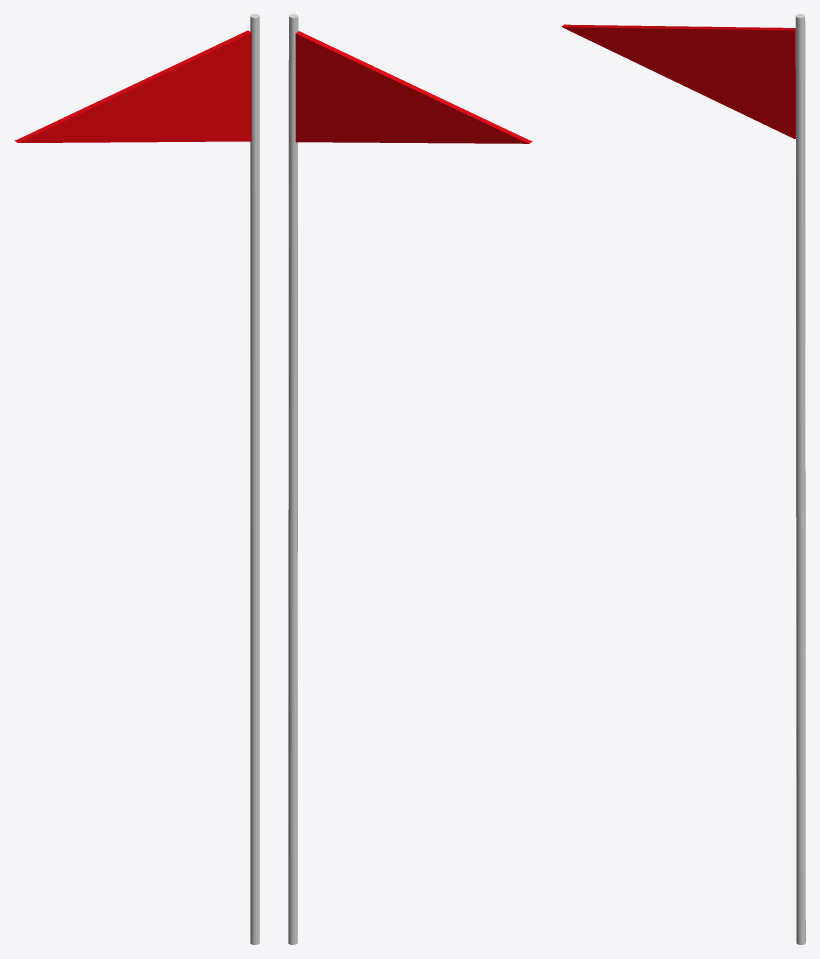
File: golf_flag.fbx
3 views of the same model, side by side, from view 1: azimuth 30°, elevation 25°; view 2: azimuth 150°, elevation 25°; view 3: azimuth 330°, elevation 25° (orthographic).
Visible parts, largest first — view 1: Flag, Pole; view 2: Flag, Pole; view 3: Flag, Pole.
Part boxes in pixels (x1=…): Flag: x1=14, y1=30, x2=251, y2=142; Pole: x1=250, y1=14, x2=259, y2=944; Flag: x1=295, y1=31, x2=532, y2=143; Pole: x1=288, y1=14, x2=298, y2=944; Flag: x1=561, y1=24, x2=795, y2=138; Pole: x1=795, y1=14, x2=805, y2=944.
Size of the model in its own units: 2014 by 7356 by 71.98.
